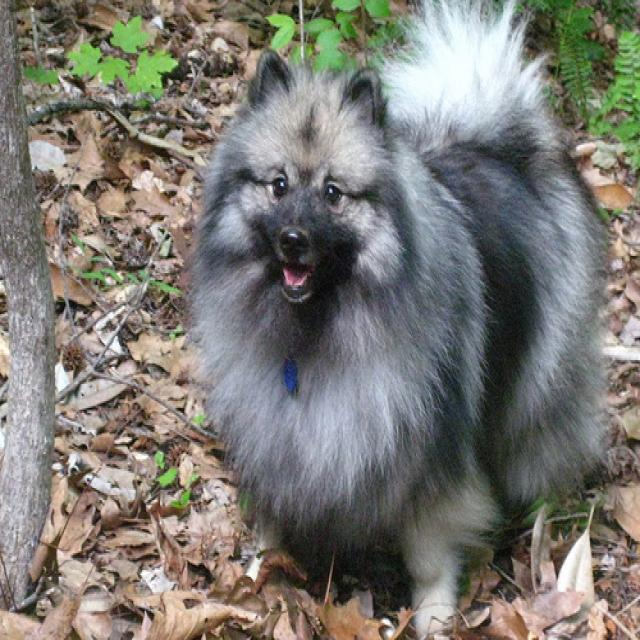dog-keeshond: (174, 2, 637, 637)
